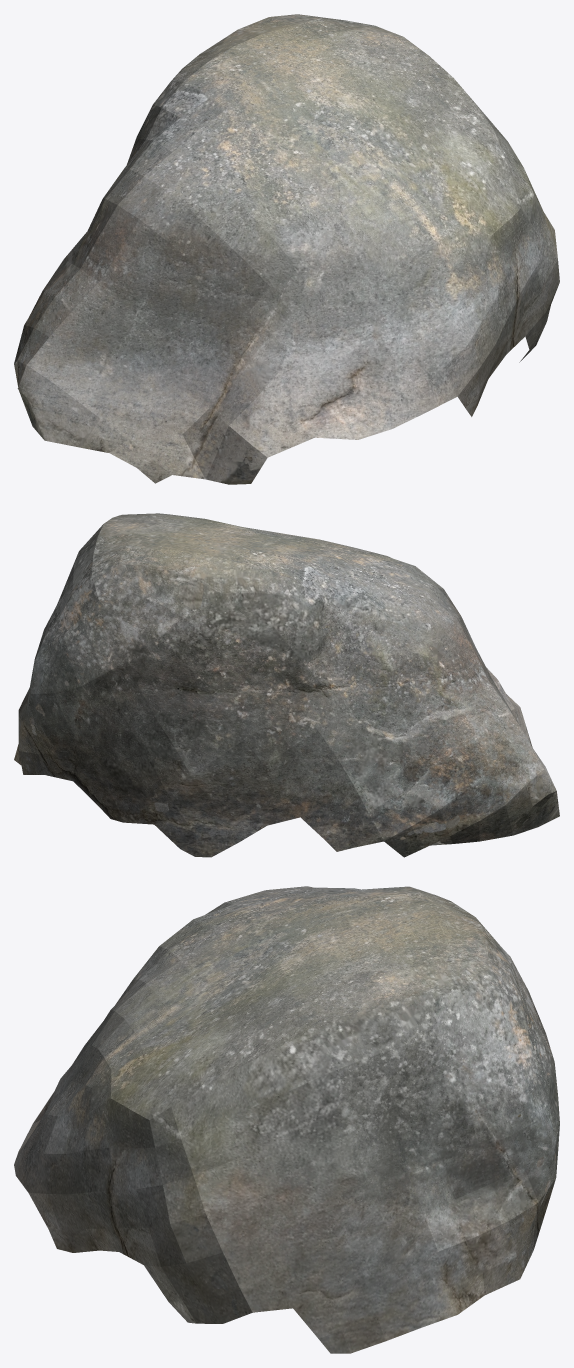
File: rock.glb
3 renders of one model, top to bottom at view 1: azimuth 30°, elevation 25°; view 2: azimuth 150°, elevation 25°; view 3: azimuth 270°, elevation 25°, orthographic. The views are drawn at different scales.
Visible parts, largest first — view 1: Rock005_LOD2; view 2: Rock005_LOD2; view 3: Rock005_LOD2.
Boxes of the visible parts, <box> form: Rock005_LOD2: <box>14,14,559,484</box>; Rock005_LOD2: <box>14,513,559,857</box>; Rock005_LOD2: <box>14,886,559,1353</box>.
Bounding box in the file's own units: 1.3 × 0.7055 × 1.05.
1 material, 1 textured.
